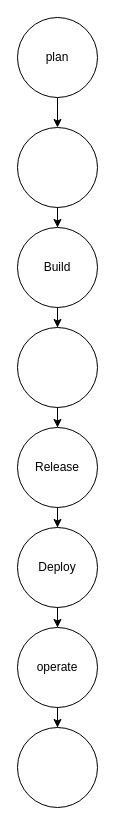
The diagram is 115 pixels wide and 825 high, and some of its shapes have lost their labels. The shapes that lost their labels are listed below. From the top down, each one's centre as x and y in pixels, then its label:
At (x=57, y=167): "Devop".
At (x=57, y=367): "Test".
At (x=57, y=767): "Monitor".
